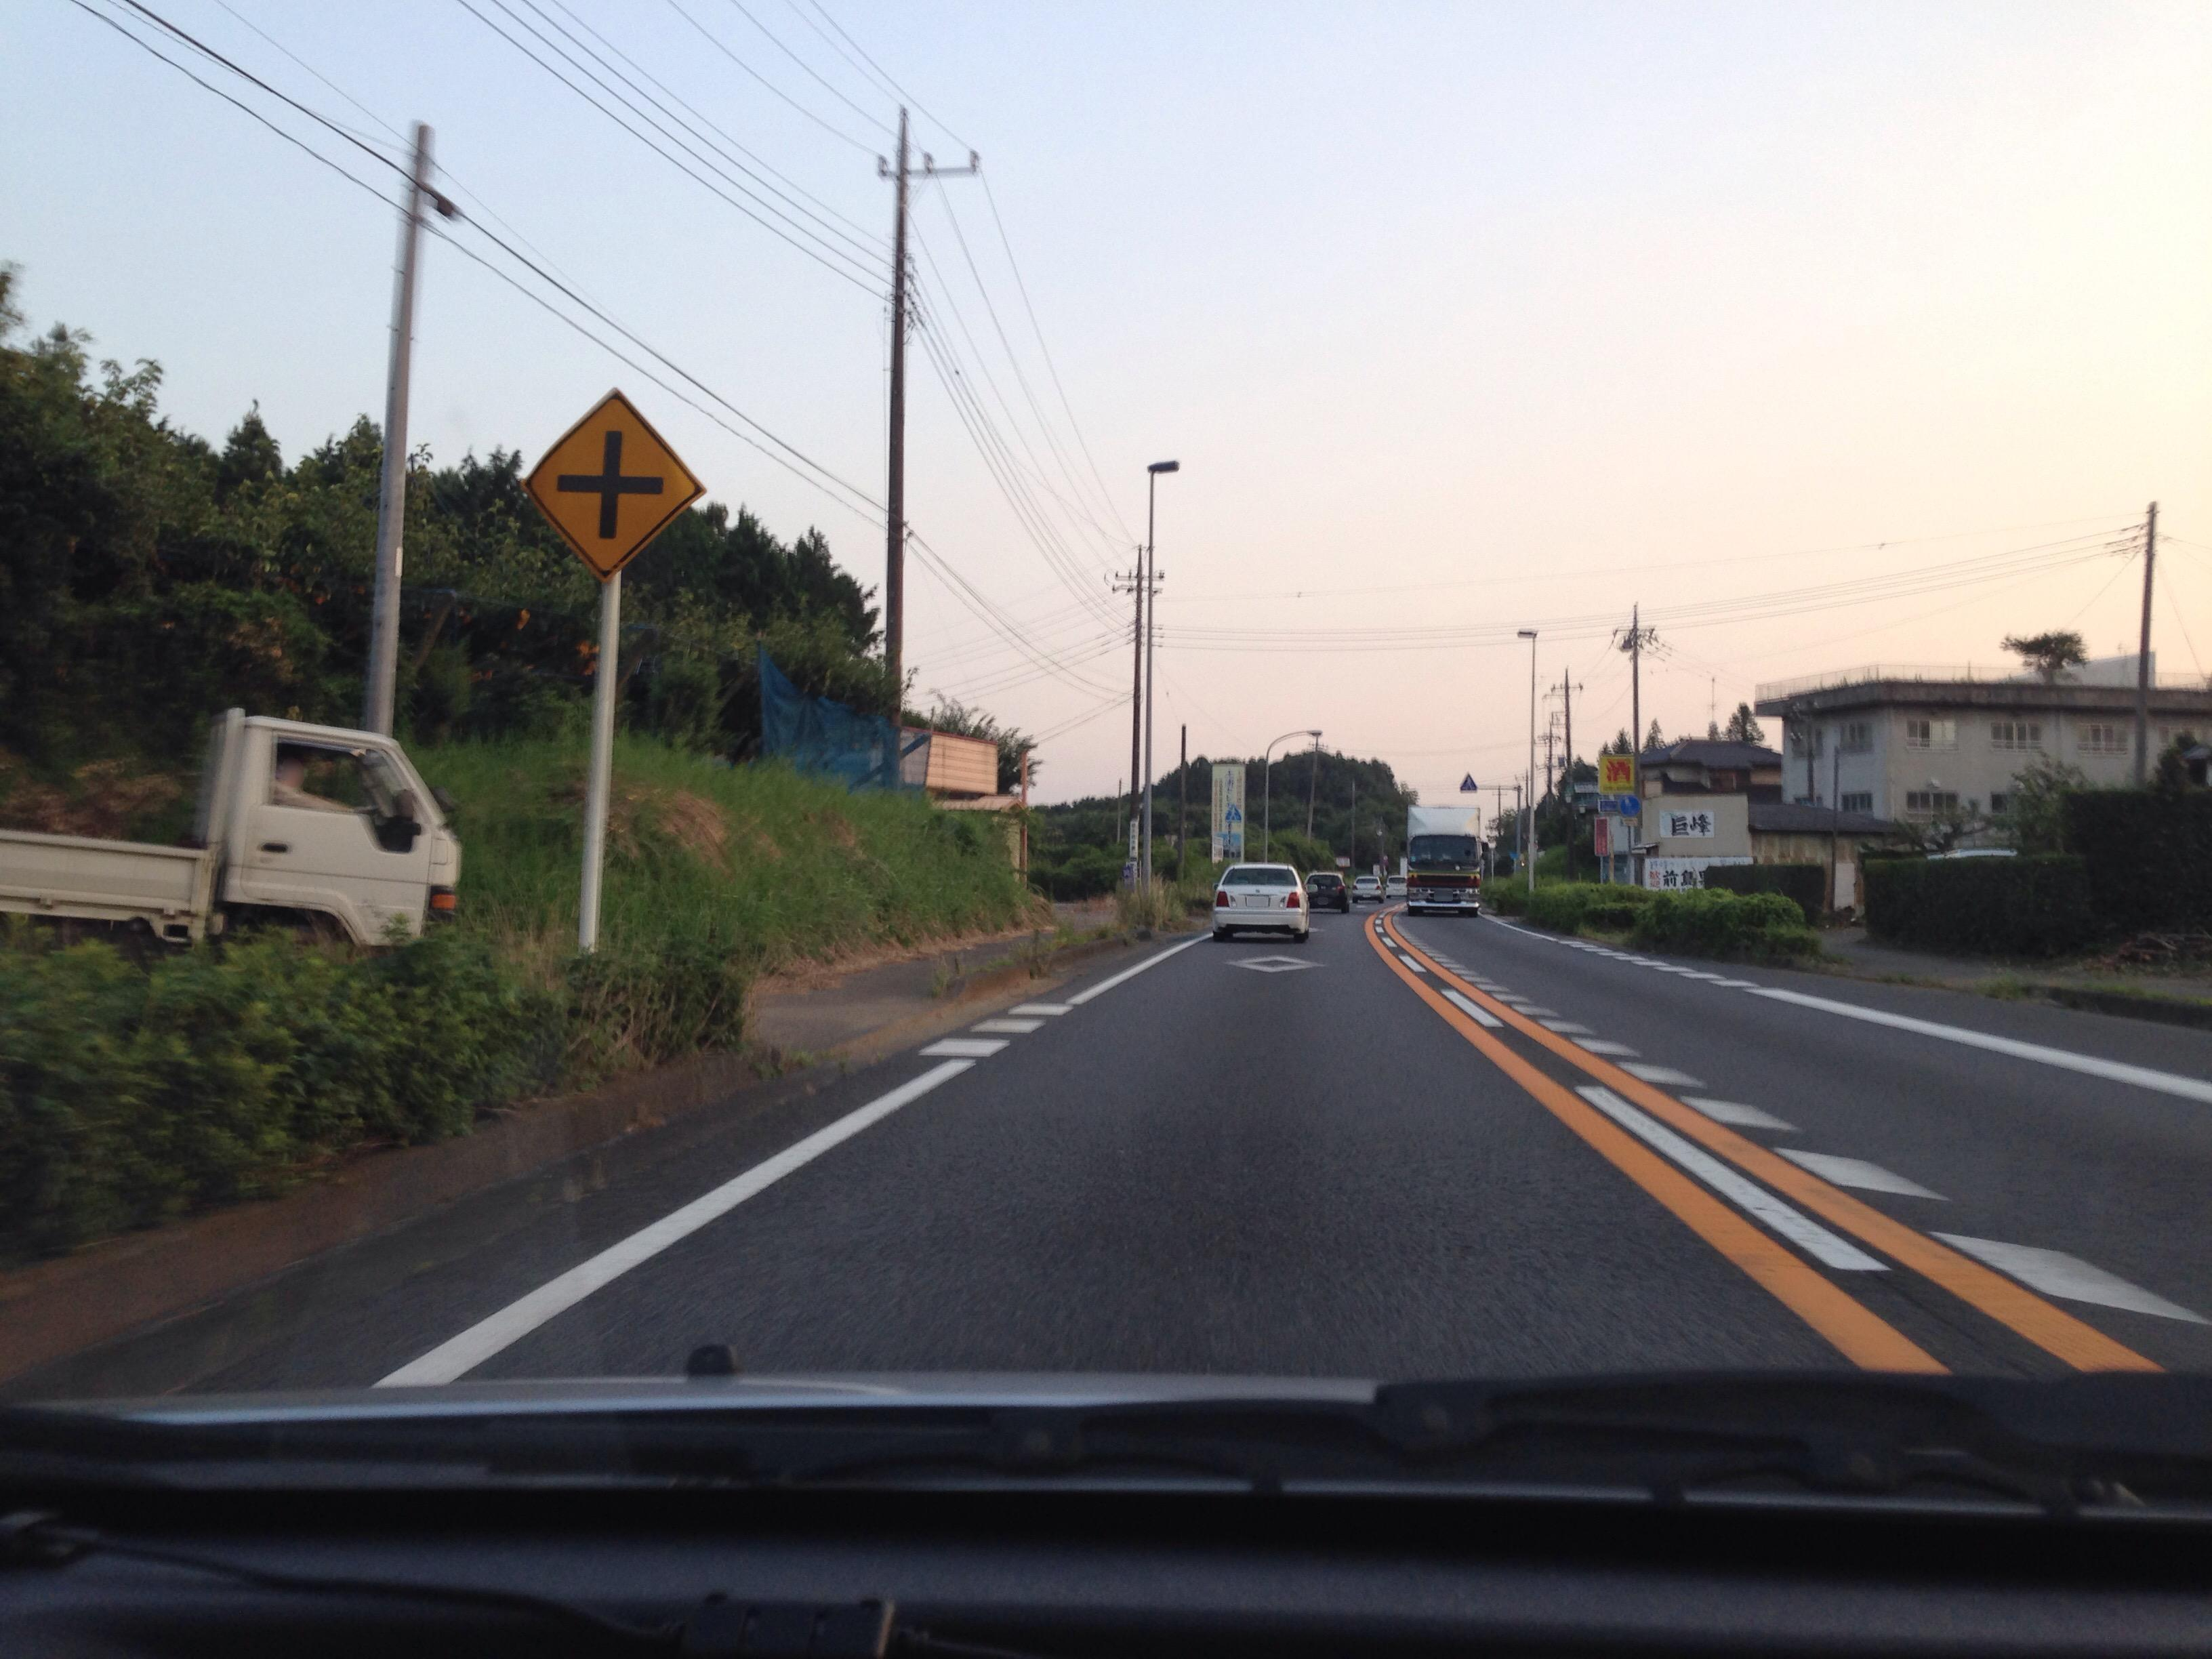vinyl banner: (738, 664, 888, 810), (1651, 807, 1733, 845)
